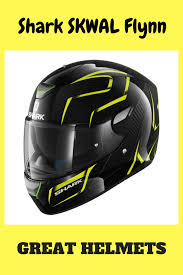helmet: (22, 58, 163, 217)
